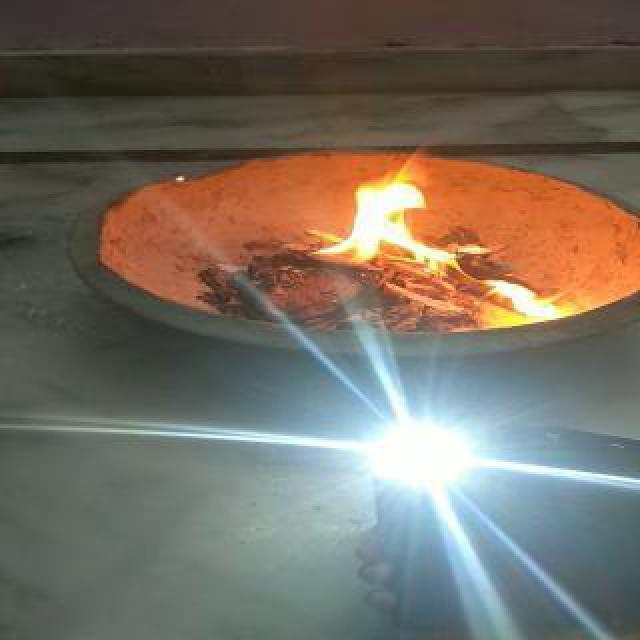Fire: (302, 180, 570, 328)
